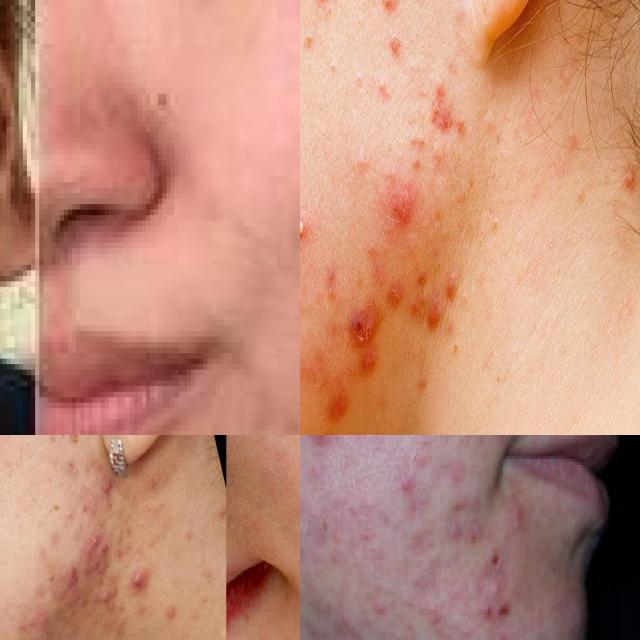comedone: (301, 32, 372, 104), (466, 207, 506, 270), (405, 123, 435, 165)
crystanlline: (349, 303, 378, 356)
folliculitis: (610, 143, 640, 209), (300, 199, 320, 260)
papule: (388, 278, 446, 342), (386, 184, 422, 245), (118, 562, 161, 609), (372, 0, 412, 28), (90, 590, 116, 621)
sebo-crystan-conglo: (69, 534, 114, 592), (91, 475, 112, 521)
